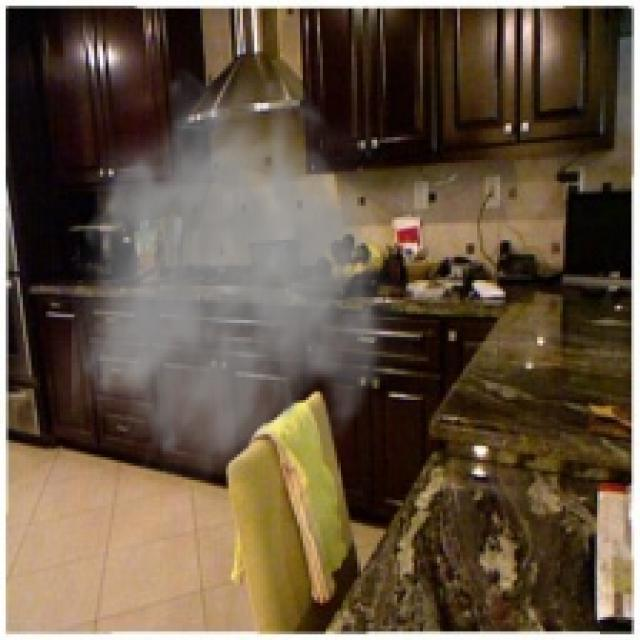Smoke: (72, 62, 414, 488)
